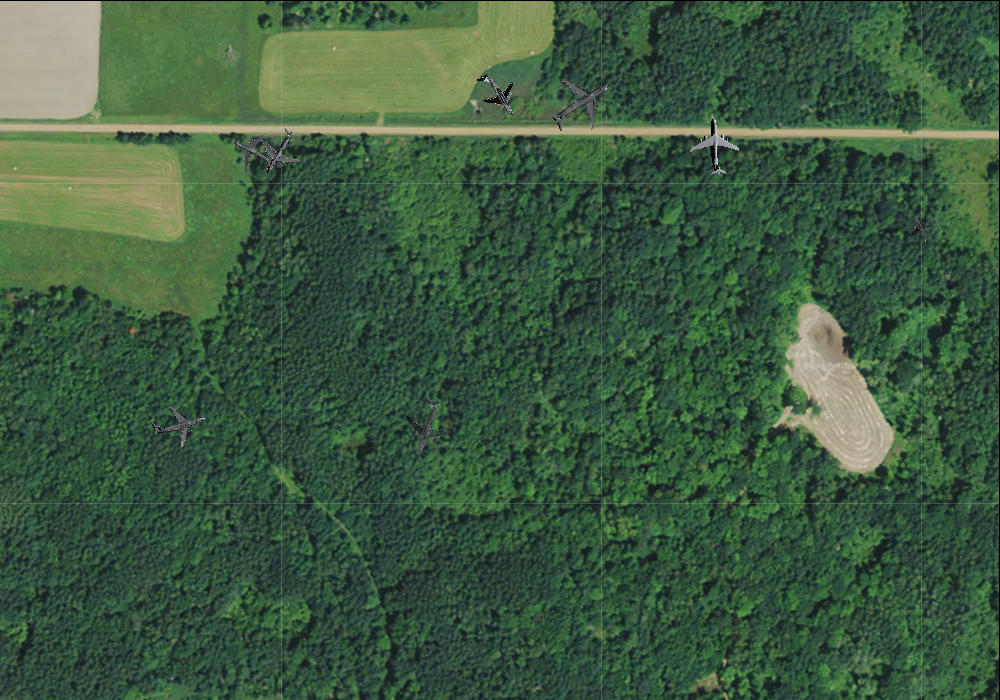plane: (536, 59, 626, 148), (390, 390, 460, 462), (145, 392, 211, 456), (247, 118, 311, 184), (465, 62, 528, 127), (223, 123, 281, 181), (688, 117, 743, 175), (901, 210, 941, 251)
